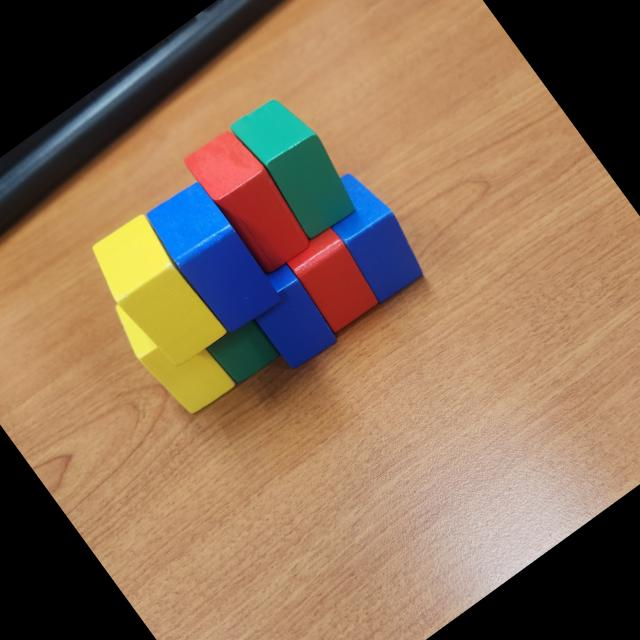blue: (140, 175, 286, 339), (304, 162, 436, 308), (235, 258, 343, 374)
green: (226, 85, 368, 242), (205, 312, 282, 390)
red: (180, 121, 318, 277), (282, 223, 386, 334)
yellow: (80, 209, 228, 374), (104, 274, 240, 424)
